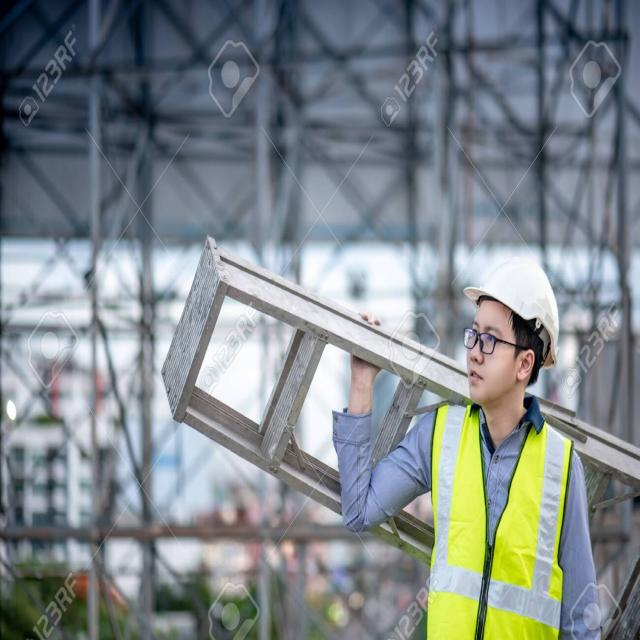helmet: (394, 205, 615, 640), (458, 233, 563, 359)
vest: (431, 396, 574, 640)
